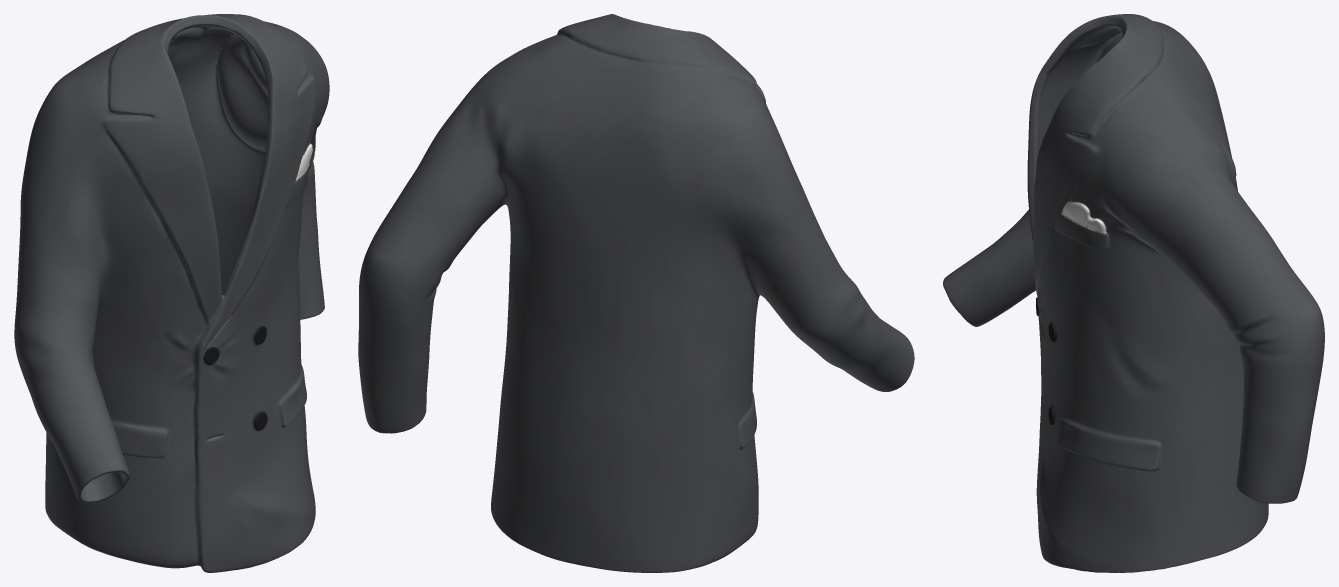
Rendered from Male_Suit_DoubleGray.glb.
3 views of the same model, side by side, from view 1: azimuth 30°, elevation 25°; view 2: azimuth 150°, elevation 25°; view 3: azimuth 270°, elevation 25° (orthographic). The views are drawn at different scales.
Parts seen in each view (by area): view 1: IVB SUIT - DOUBLEGRAY 02; view 2: IVB SUIT - DOUBLEGRAY 02; view 3: IVB SUIT - DOUBLEGRAY 02.
Boxes of the visible parts, left/top/right/bottom form: IVB SUIT - DOUBLEGRAY 02: left=14, top=14, right=329, bottom=572; IVB SUIT - DOUBLEGRAY 02: left=358, top=14, right=914, bottom=572; IVB SUIT - DOUBLEGRAY 02: left=943, top=14, right=1324, bottom=572.
Bounding box in the file's own units: 0.9822 × 1.23 × 0.8357.
1 material, 1 textured.
